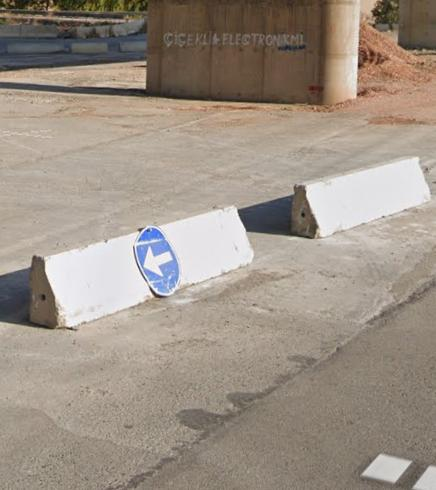turnleft: (133, 225, 185, 297)
